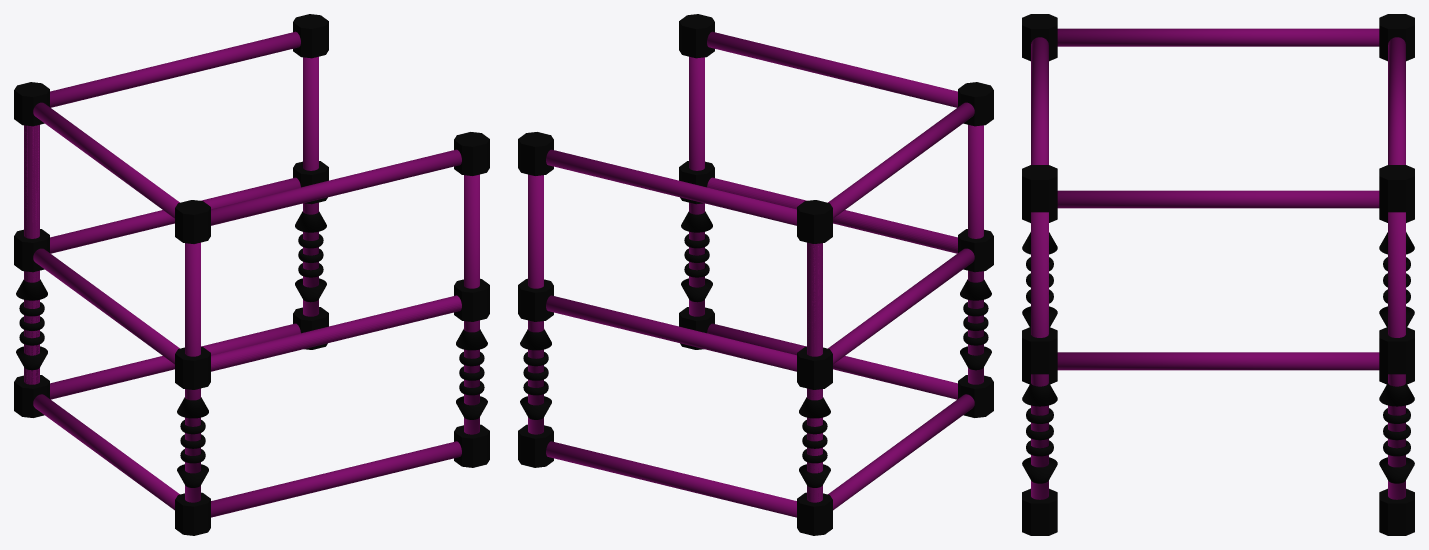
The model's file is lift_floor_grid.glb.
The picture shows the model from 3 angles, left to right: view 1: azimuth 30°, elevation 25°; view 2: azimuth 150°, elevation 25°; view 3: azimuth 270°, elevation 25°; orthographic projection. The views are drawn at different scales.
Parts seen in each view (by area): view 1: Cylinder.010, Cylinder.009, Cylinder.008, Cylinder.005, Cylinder.007, Cylinder.006, Cylinder.013, Cylinder.012, Cylinder.011, Cylinder.004, Cylinder.003, Cylinder.002 (+14 smaller); view 2: Cylinder.007, Cylinder.006, Cylinder.005, Cylinder.008, Cylinder.010, Cylinder.009, Cylinder.013, Cylinder.012, Cylinder.011, Cylinder.003, Cylinder.004, Cylinder.001 (+13 smaller); view 3: Cylinder.012, Cylinder.011, Cylinder.013, Cylinder.004, Cylinder.003, Cylinder.008, Cylinder.005, Cube.011, Cube.009, Cube.014, Cube.013, Cube.010 (+7 smaller).
Boxes of the visible parts, x1,y1,x2,y2 form: Cylinder.010: (211, 295, 461, 371); Cylinder.009: (211, 441, 461, 517); Cylinder.008: (211, 149, 461, 225); Cylinder.005: (50, 31, 300, 107); Cylinder.007: (50, 177, 300, 253); Cylinder.006: (50, 323, 300, 399); Cylinder.013: (33, 248, 179, 364); Cylinder.012: (33, 394, 179, 510); Cylinder.011: (33, 102, 179, 218); Cylinder.004: (303, 56, 318, 316); Cylinder.003: (464, 174, 479, 434); Cylinder.002: (185, 242, 200, 502); Cylinder.007: (546, 295, 796, 371); Cylinder.006: (546, 441, 796, 517); Cylinder.005: (546, 149, 796, 225); Cylinder.008: (707, 31, 957, 107); Cylinder.010: (707, 177, 957, 253); Cylinder.009: (707, 323, 957, 399); Cylinder.013: (828, 248, 974, 364); Cylinder.012: (828, 394, 974, 510); Cylinder.011: (828, 102, 974, 218); Cylinder.003: (689, 56, 704, 316); Cylinder.004: (528, 174, 543, 434); Cylinder.001: (807, 242, 822, 502); Cylinder.012: (1057, 352, 1379, 370); Cylinder.011: (1057, 28, 1379, 46); Cylinder.013: (1057, 190, 1379, 208); Cylinder.004: (1388, 212, 1405, 499); Cylinder.003: (1031, 212, 1048, 499); Cylinder.008: (1031, 37, 1048, 164); Cylinder.005: (1388, 37, 1405, 164); Cube.011: (1379, 165, 1414, 212); Cube.009: (1022, 165, 1057, 212); Cube.014: (1022, 327, 1057, 374); Cube.013: (1379, 327, 1414, 374); Cube.010: (1379, 488, 1414, 535).
Size of the model in its own units: 22 by 22 by 22.
